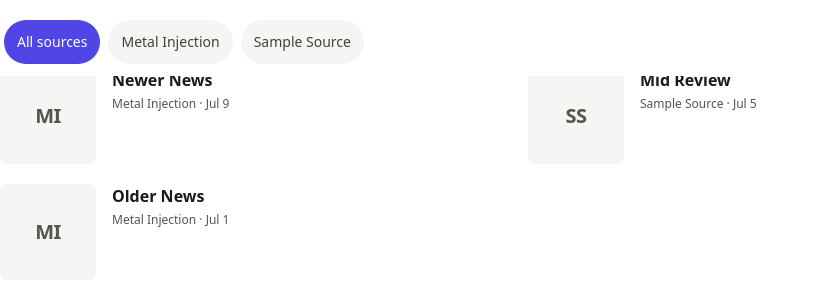
Test: FeedArticleBoard source selection ignores categories (feature 067, FR-013; replaces spec 041 FR-012 category AND source) › shows every article of the selected source whatever its category
Click the button "Sample Source" at (302, 42), box [241,20,364,64]
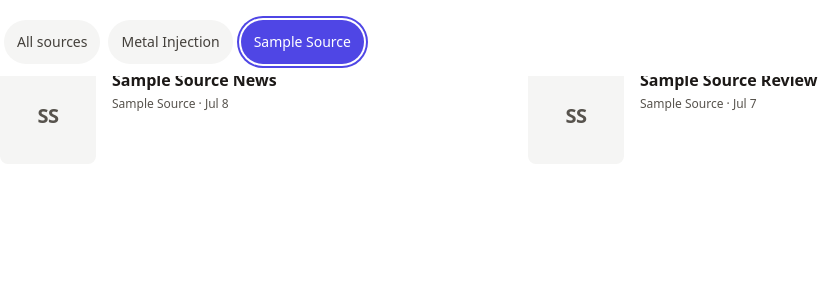
Now the heading "Sample Source News" is shown, box [112,69,277,91]
Now the heading "Sample Source Review" is shown, box [640,69,817,91]
Now the link "Newer News" is gone
